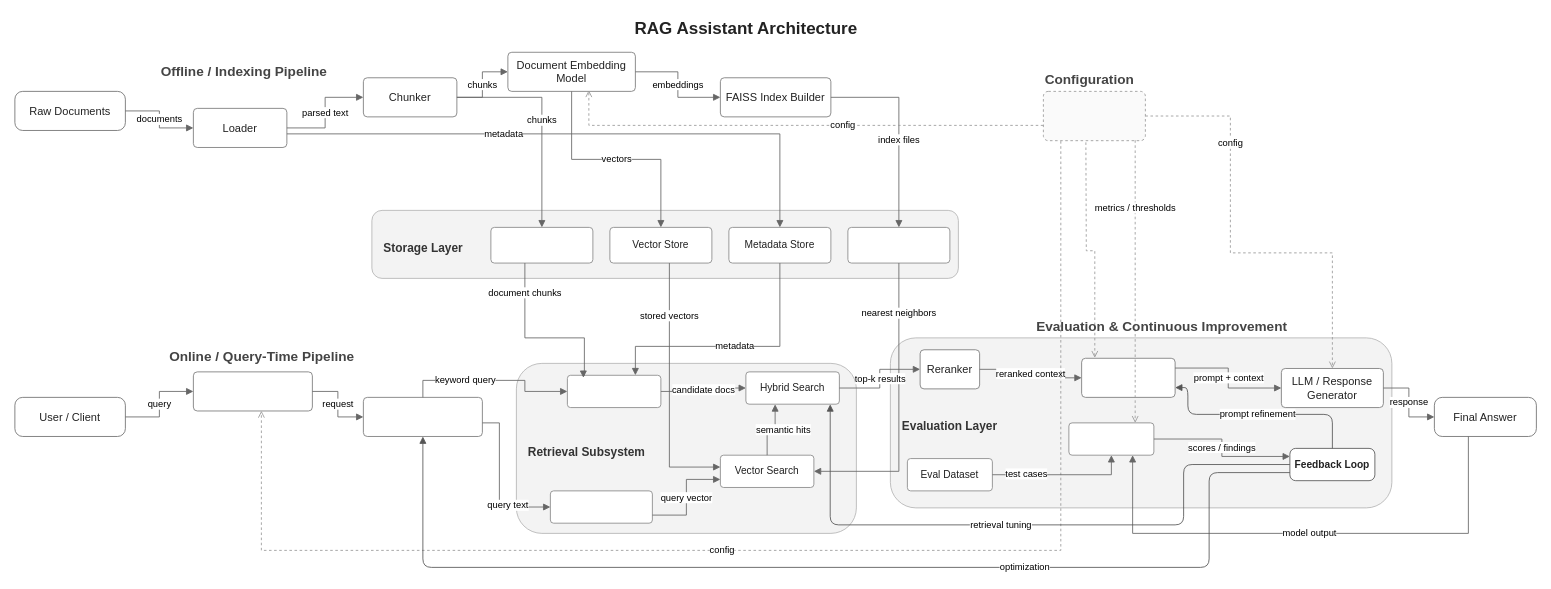
This 1551x589 diagram has some shape labels left out. Each missing label, with the centre of its shape:
.env settings.py: point (1094, 116)
BM25 Retrieval: point (614, 391)
Chunk Store: point (541, 245)
Eval Runner: point (1111, 438)
FAISS Index: point (898, 245)
FastAPI Interface: point (252, 391)
Orchestration Layer: point (422, 416)
Prompt Builder: point (1128, 377)
Query Embedding Model: point (601, 506)
